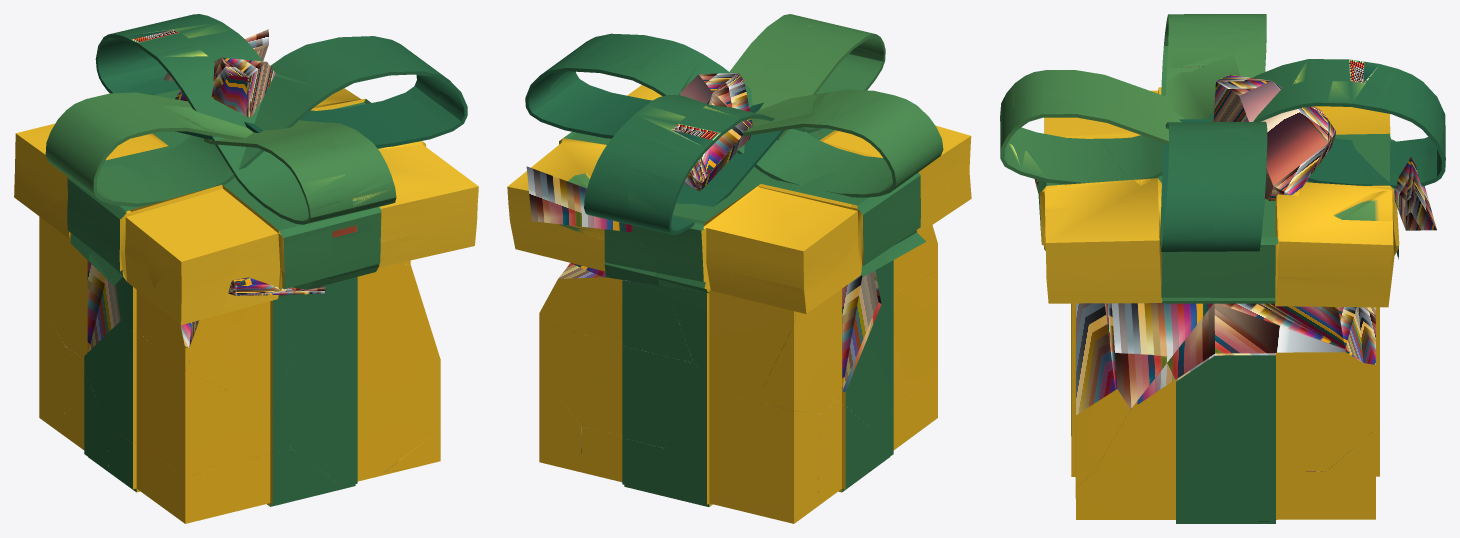
File: fractureBoxMesh.fbx
3 views of the same model, side by side, from view 1: azimuth 30°, elevation 25°; view 2: azimuth 150°, elevation 25°; view 3: azimuth 270°, elevation 25° (orthographic). The views are drawn at different scales.
Visible parts, largest first — view 1: Christmas Gift_cell.053, Christmas Gift_cell.003, Christmas Gift_cell.046, Christmas Gift_cell.113, Christmas Gift_cell.020, Christmas Gift_cell.016, Christmas Gift_cell.094, Christmas Gift_cell.021, Christmas Gift_cell.086, Christmas Gift_cell.032, Christmas Gift_cell.062, Christmas Gift_cell.018 (+27 smaller); view 2: Christmas Gift_cell.053, Christmas Gift_cell.046, Christmas Gift_cell.113, Christmas Gift_cell.011, Christmas Gift_cell.021, Christmas Gift_cell.020, Christmas Gift_cell.005, Christmas Gift_cell.023, Christmas Gift_cell.069, Christmas Gift_cell.062, Christmas Gift_cell.037, Christmas Gift_cell.086 (+20 smaller); view 3: Christmas Gift_cell.053, Christmas Gift_cell.034, Christmas Gift_cell.113, Christmas Gift_cell.046, Christmas Gift_cell.003, Christmas Gift_cell.054, Christmas Gift_cell.085, Christmas Gift_cell.023, Christmas Gift_cell.063, Christmas Gift_cell.024, Christmas Gift_cell.051, Christmas Gift_cell.027 (+14 smaller).
Part boxes in pixels (left/top/right/bottom): Christmas Gift_cell.053: left=16, top=29, right=478, bottom=324; Christmas Gift_cell.003: left=274, top=264, right=440, bottom=488; Christmas Gift_cell.046: left=45, top=36, right=467, bottom=206; Christmas Gift_cell.113: left=95, top=16, right=396, bottom=224; Christmas Gift_cell.020: left=84, top=321, right=291, bottom=477; Christmas Gift_cell.016: left=107, top=425, right=345, bottom=523; Christmas Gift_cell.094: left=189, top=294, right=308, bottom=416; Christmas Gift_cell.021: left=39, top=216, right=120, bottom=358; Christmas Gift_cell.086: left=63, top=346, right=111, bottom=474; Christmas Gift_cell.032: left=115, top=276, right=191, bottom=374; Christmas Gift_cell.062: left=39, top=305, right=65, bottom=435; Christmas Gift_cell.018: left=232, top=229, right=332, bottom=280; Christmas Gift_cell.053: left=507, top=85, right=971, bottom=312; Christmas Gift_cell.046: left=525, top=34, right=943, bottom=197; Christmas Gift_cell.113: left=584, top=14, right=885, bottom=234; Christmas Gift_cell.011: left=540, top=324, right=731, bottom=448; Christmas Gift_cell.021: left=756, top=272, right=878, bottom=413; Christmas Gift_cell.020: left=838, top=270, right=937, bottom=426; Christmas Gift_cell.005: left=666, top=286, right=796, bottom=402; Christmas Gift_cell.023: left=539, top=263, right=693, bottom=362; Christmas Gift_cell.069: left=664, top=397, right=751, bottom=513; Christmas Gift_cell.062: left=751, top=402, right=820, bottom=523; Christmas Gift_cell.037: left=581, top=426, right=666, bottom=496; Christmas Gift_cell.086: left=818, top=401, right=869, bottom=505; Christmas Gift_cell.053: left=1038, top=87, right=1436, bottom=307; Christmas Gift_cell.034: left=1094, top=303, right=1375, bottom=473; Christmas Gift_cell.113: left=1000, top=59, right=1445, bottom=187; Christmas Gift_cell.046: left=1160, top=14, right=1335, bottom=251; Christmas Gift_cell.003: left=1071, top=303, right=1212, bottom=488; Christmas Gift_cell.054: left=1075, top=471, right=1325, bottom=521; Christmas Gift_cell.085: left=1176, top=473, right=1275, bottom=521; Christmas Gift_cell.023: left=1257, top=303, right=1379, bottom=373; Christmas Gift_cell.063: left=1326, top=429, right=1375, bottom=519; Christmas Gift_cell.024: left=1213, top=146, right=1267, bottom=247; Christmas Gift_cell.051: left=1045, top=205, right=1125, bottom=284; Christmas Gift_cell.027: left=1167, top=168, right=1230, bottom=195.
Bounding box in the file's own units: 1306 × 1230 × 1306.
